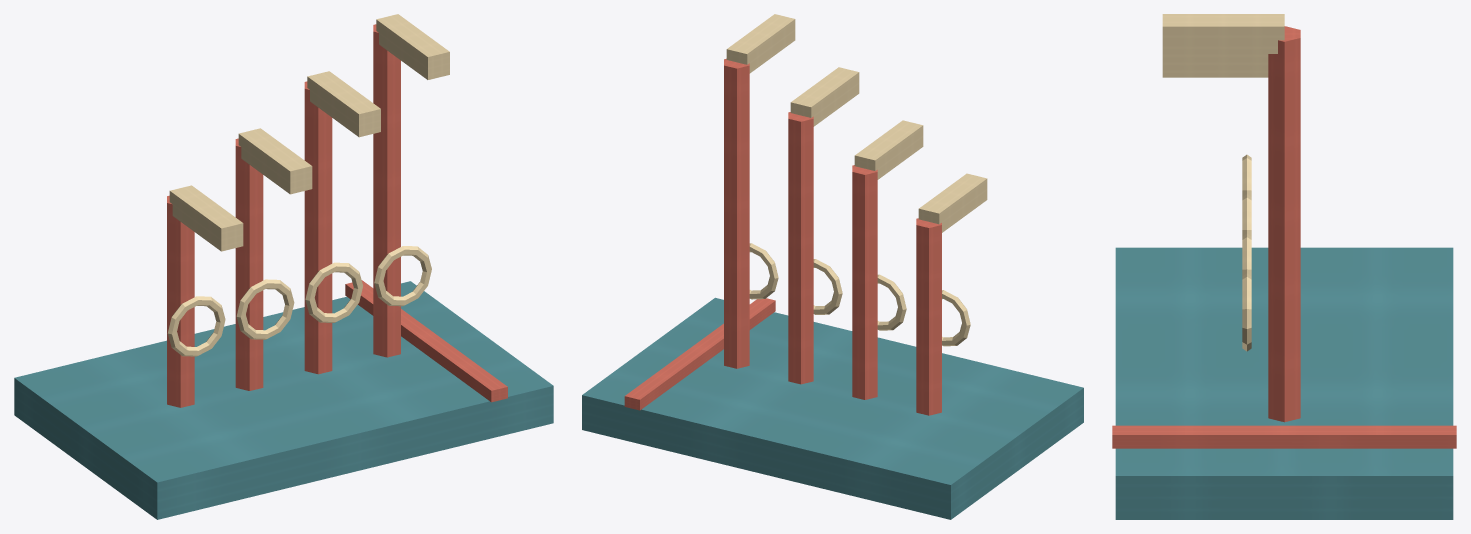
File: atlas100-s074-a01.lod2.glb
3 renders of one model, left to right at view 1: azimuth 30°, elevation 25°; view 2: azimuth 150°, elevation 25°; view 3: azimuth 270°, elevation 25°, orthographic. The views are drawn at different scales.
Visible parts, largest first — view 1: atlas100-s074-a01:part-000, atlas100-s074-a01:part-012, atlas100-s074-a01:part-009, atlas100-s074-a01:part-006, atlas100-s074-a01:part-003, atlas100-s074-a01:part-002, atlas100-s074-a01:part-008, atlas100-s074-a01:part-005, atlas100-s074-a01:part-011, atlas100-s074-a01:part-014, atlas100-s074-a01:part-007, atlas100-s074-a01:part-010 (+2 smaller); view 2: atlas100-s074-a01:part-000, atlas100-s074-a01:part-012, atlas100-s074-a01:part-009, atlas100-s074-a01:part-006, atlas100-s074-a01:part-003, atlas100-s074-a01:part-002, atlas100-s074-a01:part-011, atlas100-s074-a01:part-014, atlas100-s074-a01:part-008, atlas100-s074-a01:part-005, atlas100-s074-a01:part-007, atlas100-s074-a01:part-013 (+2 smaller); view 3: atlas100-s074-a01:part-000, atlas100-s074-a01:part-012, atlas100-s074-a01:part-002, atlas100-s074-a01:part-014, atlas100-s074-a01:part-005, atlas100-s074-a01:part-008, atlas100-s074-a01:part-011, atlas100-s074-a01:part-013, atlas100-s074-a01:part-004, atlas100-s074-a01:part-007, atlas100-s074-a01:part-010.
Part boxes in pixels (x1,y1,x2,y2): atlas100-s074-a01:part-000: [14, 281, 553, 519]; atlas100-s074-a01:part-012: [373, 24, 400, 357]; atlas100-s074-a01:part-009: [304, 81, 332, 374]; atlas100-s074-a01:part-006: [235, 138, 263, 390]; atlas100-s074-a01:part-003: [167, 195, 194, 407]; atlas100-s074-a01:part-002: [345, 280, 507, 402]; atlas100-s074-a01:part-008: [238, 128, 312, 194]; atlas100-s074-a01:part-005: [169, 185, 243, 251]; atlas100-s074-a01:part-011: [307, 71, 380, 137]; atlas100-s074-a01:part-014: [376, 14, 449, 79]; atlas100-s074-a01:part-007: [236, 279, 294, 339]; atlas100-s074-a01:part-010: [305, 262, 362, 322]; atlas100-s074-a01:part-000: [582, 297, 1083, 519]; atlas100-s074-a01:part-012: [724, 58, 749, 368]; atlas100-s074-a01:part-009: [788, 112, 813, 384]; atlas100-s074-a01:part-006: [852, 165, 877, 399]; atlas100-s074-a01:part-003: [916, 218, 941, 415]; atlas100-s074-a01:part-002: [624, 298, 775, 410]; atlas100-s074-a01:part-011: [790, 67, 859, 126]; atlas100-s074-a01:part-014: [726, 14, 795, 73]; atlas100-s074-a01:part-008: [854, 120, 923, 179]; atlas100-s074-a01:part-005: [918, 173, 987, 232]; atlas100-s074-a01:part-007: [877, 274, 906, 330]; atlas100-s074-a01:part-013: [749, 243, 778, 299]; atlas100-s074-a01:part-000: [1115, 247, 1453, 519]; atlas100-s074-a01:part-012: [1268, 26, 1300, 422]; atlas100-s074-a01:part-002: [1112, 425, 1456, 448]; atlas100-s074-a01:part-014: [1162, 14, 1284, 53]; atlas100-s074-a01:part-005: [1162, 69, 1268, 77]; atlas100-s074-a01:part-008: [1162, 61, 1268, 69]; atlas100-s074-a01:part-011: [1162, 54, 1268, 61]; atlas100-s074-a01:part-013: [1242, 273, 1251, 351]; atlas100-s074-a01:part-004: [1242, 154, 1251, 196]; atlas100-s074-a01:part-007: [1242, 194, 1251, 236]; atlas100-s074-a01:part-010: [1242, 234, 1251, 275].
Size of the model in its own units: 2.88 by 2.62 by 1.84.
Materials: 3 (3 with a texture image).
